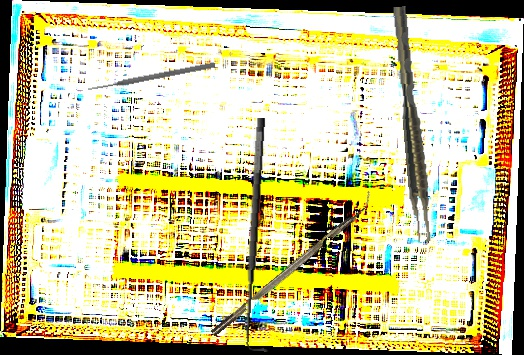Chopper: (204, 190, 379, 337)
Hook Surgical: (236, 117, 285, 352)
Pusher: (87, 60, 216, 94)
Tissue Forceps: (392, 5, 434, 243)
